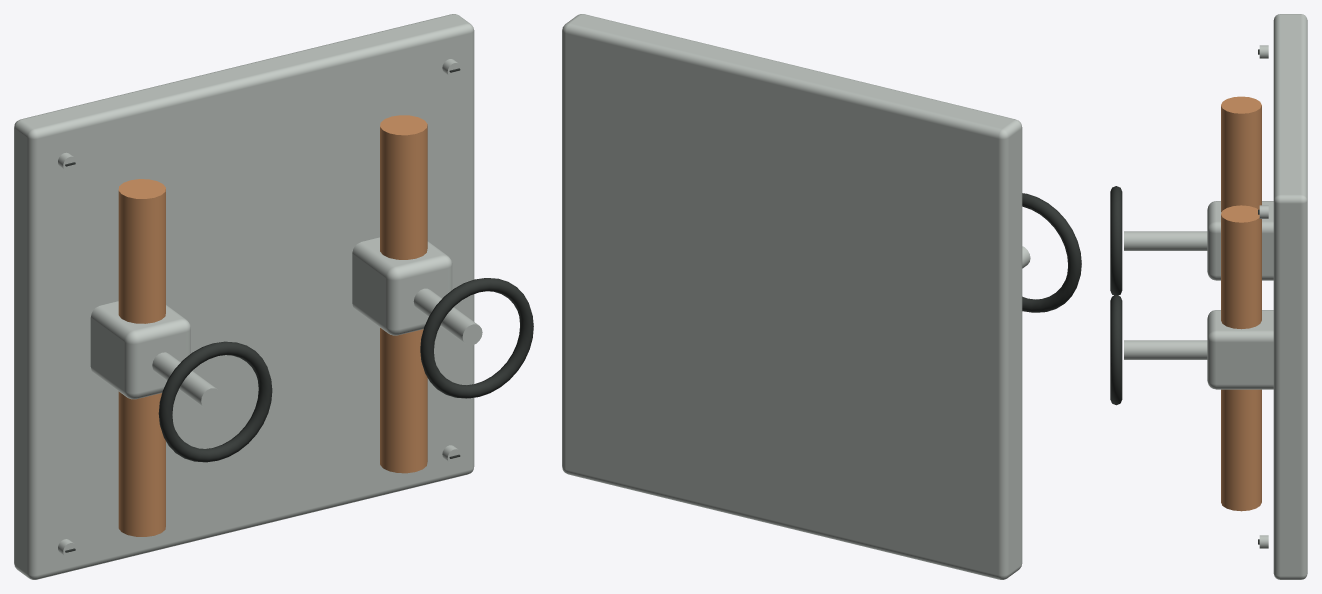
Rendered from spacecraft-thermal-test-chamber-coolant-valve-panel-919f0014__32055.glb.
3 renders of one model, left to right at view 1: azimuth 30°, elevation 25°; view 2: azimuth 150°, elevation 25°; view 3: azimuth 270°, elevation 25°, orthographic. The views are drawn at different scales.
Visible parts, largest first — view 1: coolant-valve-panel; view 2: coolant-valve-panel; view 3: coolant-valve-panel.
Part boxes in pixels (bbox=[...]): coolant-valve-panel: bbox=[14, 14, 533, 579]; coolant-valve-panel: bbox=[562, 14, 1081, 579]; coolant-valve-panel: bbox=[1110, 14, 1307, 579].
Bounding box in the file's own units: 0.58 × 0.56 × 0.2605.
